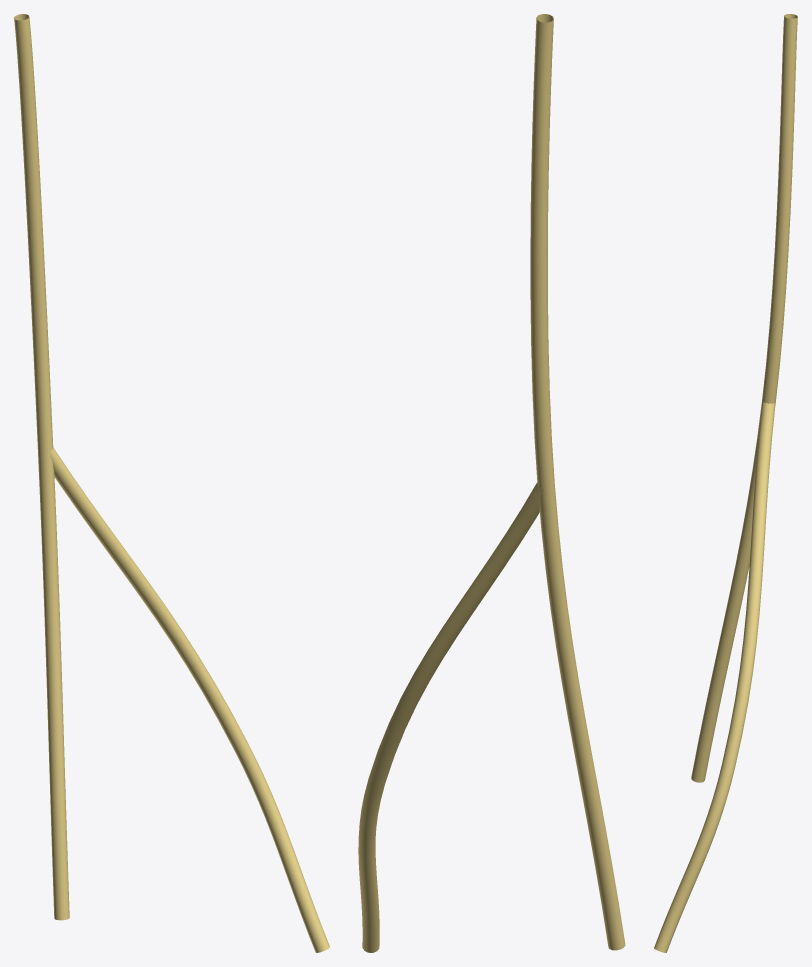
3 views of the same model, side by side, from view 1: azimuth 30°, elevation 25°; view 2: azimuth 150°, elevation 25°; view 3: azimuth 270°, elevation 25° (orthographic). The views are drawn at different scales.
Visible parts, largest first — view 1: ZA_e51d82f125aa9caa; view 2: ZA_e51d82f125aa9caa; view 3: ZA_e51d82f125aa9caa.
Part boxes in pixels (x1=…): ZA_e51d82f125aa9caa: x1=14, y1=14, x2=329, y2=952; ZA_e51d82f125aa9caa: x1=358, y1=14, x2=625, y2=952; ZA_e51d82f125aa9caa: x1=654, y1=14, x2=797, y2=952.
Bounding box in the file's own units: 0.0187 × 0.0663 × 0.0103.
